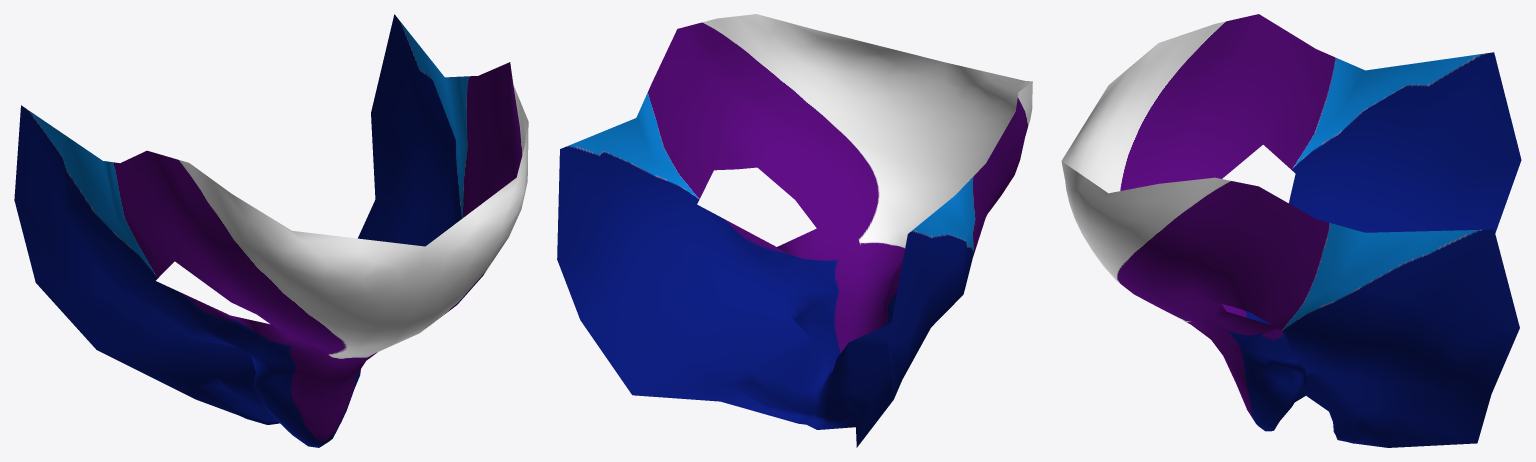
The model's file is StrengthAnimation2.fbx.
3 views of the same model, side by side, from view 1: azimuth 30°, elevation 25°; view 2: azimuth 150°, elevation 25°; view 3: azimuth 270°, elevation 25° (orthographic). The views are drawn at different scales.
Parts seen in each view (by area): view 1: pSphere1; view 2: pSphere1; view 3: pSphere1.
Boxes of the visible parts, x1,y1,x2,y2 form: pSphere1: (14, 14, 528, 447); pSphere1: (557, 14, 1032, 447); pSphere1: (1061, 14, 1521, 447).
Size of the model in its own units: 4.86 by 4.24 by 5.22.
